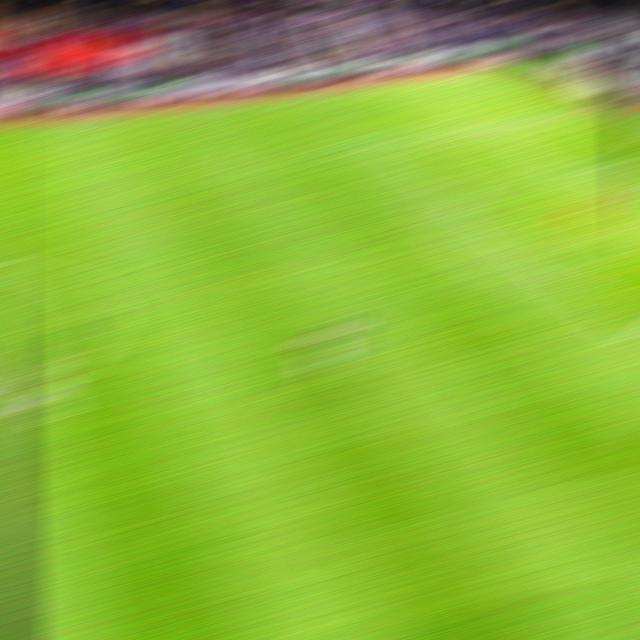bigarea_top_inner: (376, 133, 415, 148)
bigarea_top_outter: (559, 106, 595, 117)
bottom_arc_area_intersection: (562, 280, 599, 297)
corner: (477, 65, 516, 73)
smallarea_top_inner: (575, 160, 613, 172)
top_arc_area_intersection: (446, 191, 483, 204)
